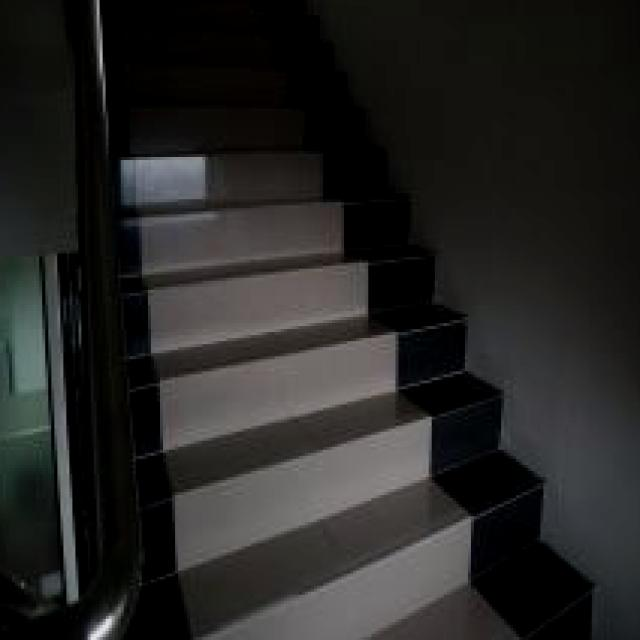upstair: (164, 25, 439, 640)
